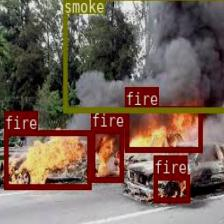fire: (3, 129, 90, 188), (124, 106, 202, 152), (91, 127, 123, 181), (154, 174, 189, 202)
smoke: (62, 0, 224, 111)
